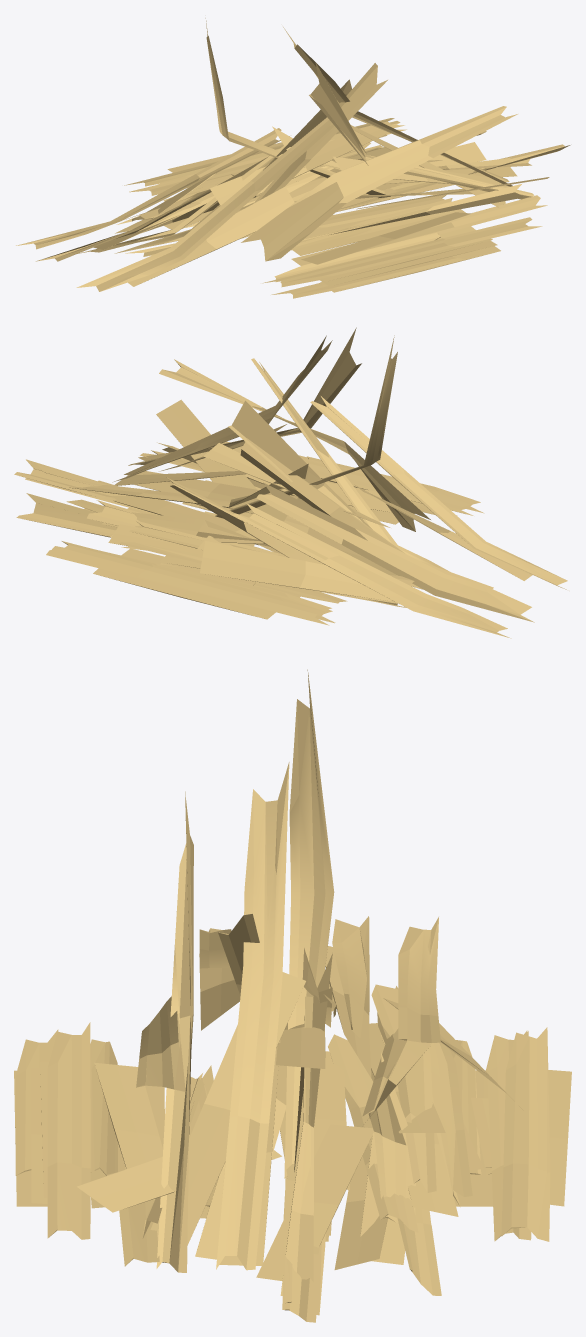
Rendered from S5 stro hoopje.fbx.
The picture shows the model from 3 angles, top to bottom: view 1: azimuth 30°, elevation 25°; view 2: azimuth 150°, elevation 25°; view 3: azimuth 270°, elevation 25°; orthographic projection. The views are drawn at different scales.
Parts seen in each view (by area): view 1: stro_hoopje; view 2: stro_hoopje; view 3: stro_hoopje.
Part boxes in pixels (x1,y1,x2,y2): stro_hoopje: (16, 18, 570, 298); stro_hoopje: (14, 327, 567, 638); stro_hoopje: (14, 669, 571, 1322).
Bounding box in the file's own units: 1.65 × 0.69 × 0.9378.
